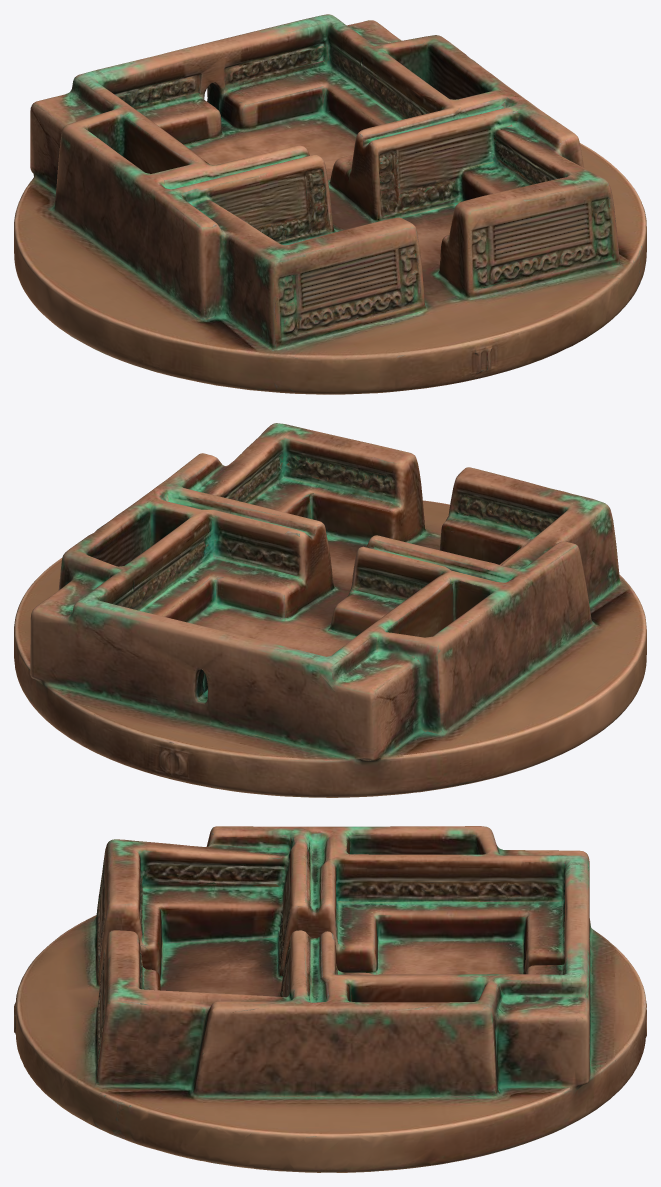
The model's file is chan_chan.glb.
3 renders of one model, top to bottom at view 1: azimuth 30°, elevation 25°; view 2: azimuth 150°, elevation 25°; view 3: azimuth 270°, elevation 25°, orthographic.
Visible parts, largest first — view 1: Mesh_0; view 2: Mesh_0; view 3: Mesh_0.
Part boxes in pixels (box(x1,y1,x2,y2)): Mesh_0: box(14, 14, 646, 394); Mesh_0: box(14, 423, 646, 797); Mesh_0: box(14, 826, 646, 1172).
Size of the model in its own units: 1.9 by 0.422 by 1.91.
Materials: 1 (1 with a texture image).
